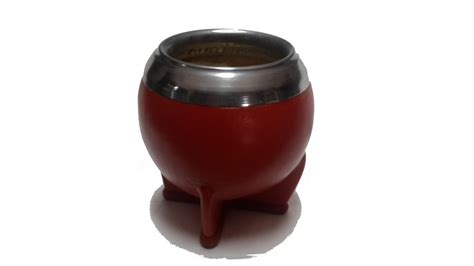cuero: (136, 78, 316, 249)
